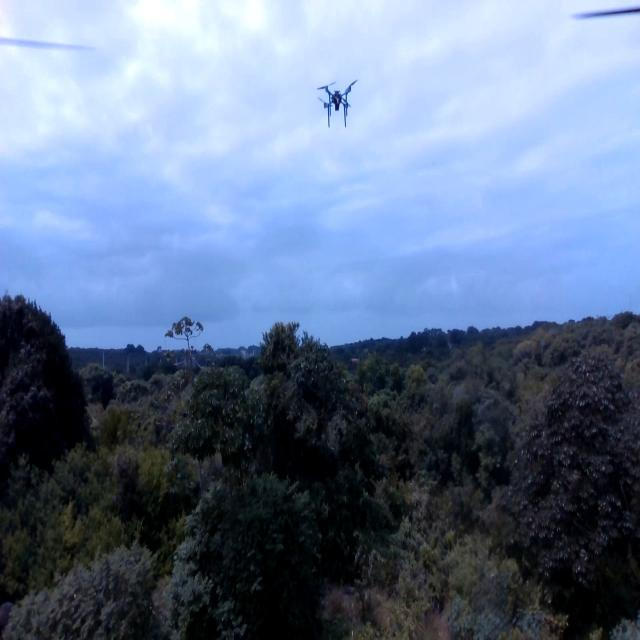-uav-: (307, 68, 363, 137)
